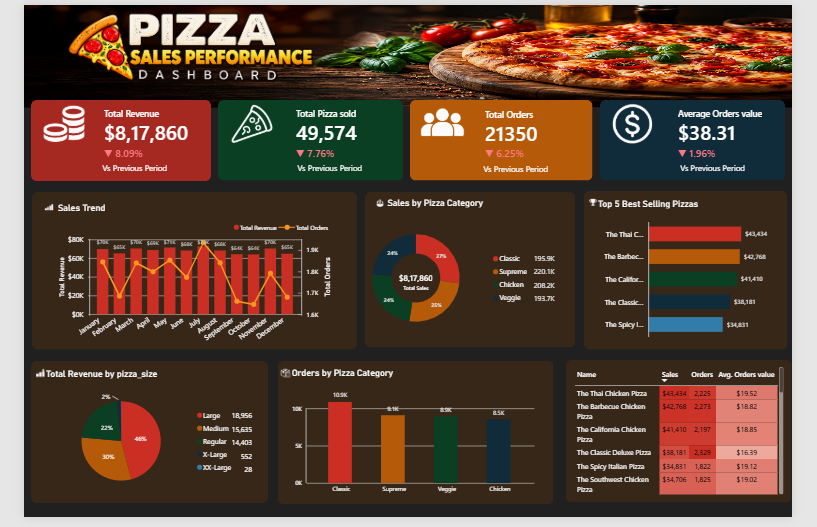

This screenshot's page, from the dashboard's own definition file:
{"tool":"powerbi","page":{"name":"Sales Performance","canvas":[1536,1024],"ordinal":0},"visuals":[{"type":"image","box":[0,0,1536,205],"z":0},{"type":"shape","box":[680.9,373.3,420.7,311.1],"z":0,"group":"g3"},{"type":"group","id":"g1","title":"Group 2","box":[15,374.4,650,315],"z":0,"group":"g4"},{"type":"shape","box":[15,374.4,650,315.5],"z":0,"group":"g1"},{"type":"shape","box":[1084.7,710,451,285.1],"z":0,"group":"g7"},{"type":"shape","box":[14.3,711.4,474.2,284],"z":0,"group":"g8"},{"type":"shape","box":[508.9,711.4,551.1,286.4],"z":0,"group":"g6"},{"type":"image","box":[0,0,670,170],"z":1000},{"type":"donutChart","title":"Sales by Pizza Category","fields":{"Category":["pizza_sales1.pizza_category"],"Y":["pizza_sales1.Total Revenue"]},"box":[613.3,370,417.4,316.7],"z":1000,"group":"g3"},{"type":"shape","box":[1120,371.7,406.7,317.5],"z":1000,"group":"g5"},{"type":"lineStackedColumnComboChart","title":"Sales Trend","fields":{"Category":["dimdate.date.Variation.Date Hierarchy.Month"],"Y":["pizza_sales1.Total Revenue"],"Y2":["pizza_sales1.Total Orders"]},"box":[47.5,374.4,585,315.5],"z":1000,"group":"g1"},{"type":"shape","box":[530,467.7,46.7,153.3],"z":1000,"group":"g4"},{"type":"columnChart","title":" Orders by Pizza Category","fields":{"Category":["pizza_sales1.pizza_category"],"Y":["pizza_sales1.Total Orders"]},"box":[520.1,710,516.8,287.1],"z":1000,"group":"g6"},{"type":"tableEx","fields":{"Values":["pizza_sales1.pizza_name","pizza_sales1.Total Revenue","pizza_sales1.Total Orders","pizza_sales1.Average Orders value"]},"box":[1084.3,710.6,451,285.1],"z":1000,"group":"g7"},{"type":"pieChart","fields":{"Category":["pizza_sales1.pizza_size"],"Y":["pizza_sales1.Total Revenue"]},"box":[24.7,711.6,415.6,284.9],"z":1000,"group":"g8"},{"type":"group","id":"g2","title":"Group 1","box":[13.3,189,1516,162],"z":2000},{"type":"shape","box":[13.3,189.7,360,162],"z":2000,"group":"g2"},{"type":"image","box":[38.6,390.8,20,27.3],"z":2000,"group":"g1"},{"type":"shape","box":[106.7,467.7,46.7,153.3],"z":2000,"group":"g4"},{"type":"textbox","box":[748.1,554.3,71.7,27.8],"z":2000,"group":"g3"},{"type":"shape","box":[177.1,755.8,13.7,59.5],"z":2000,"group":"g8"},{"type":"shape","box":[530.6,806.7,68.3,150],"z":2000,"group":"g6"},{"type":"cardVisual","fields":{"Data":["pizza_sales1.Total Revenue"]},"box":[143.6,190,230,160],"z":3000,"group":"g2"},{"type":"group","id":"g3","title":"Group 3","box":[613.3,370,488.3,316.7],"z":3000},{"type":"barChart","title":"Top 5 Best Selling Pizzas","fields":{"Category":["pizza_sales1.pizza_name"],"Y":["pizza_sales1.Total Revenue"]},"box":[1128.8,371.7,397.5,317.5],"z":3000,"group":"g5"},{"type":"tableEx","fields":{"Values":["pizza_sales1.pizza_category","pizza_sales1.Total Revenue"]},"box":[849.7,442.9,251.2,175.1],"z":3000,"group":"g3"},{"type":"image","box":[21.8,721.5,21.4,26.9],"z":3000,"group":"g8"},{"type":"image","box":[513.4,722.5,21.1,26.7],"z":3000,"group":"g6"},{"type":"cardVisual","fields":{"Data":["pizza_sales1.Latest MoM %"]},"box":[143.6,275.7,171.4,37.1],"z":4000,"group":"g2"},{"type":"group","id":"g4","title":"Group 4","box":[15,374.4,650,315],"z":4000},{"type":"image","box":[700.9,382.8,20,26.9],"z":4000,"group":"g3"},{"type":"tableEx","fields":{"Values":["pizza_sales1.pizza_size","pizza_sales1.Total Pizza sold"]},"box":[267.5,755.5,299.9,241.1],"z":4000,"group":"g8"},{"type":"textbox","box":[66.4,312.8,307.1,37.1],"z":5000,"group":"g2"},{"type":"group","id":"g5","title":"Group 5","box":[1120,371.7,406.7,318.3],"z":5000},{"type":"shape","box":[1216,433.4,66.7,230.3],"z":5000,"group":"g5"},{"type":"image","box":[13.6,190,130,85.7],"z":6000,"group":"g2"},{"type":"image","box":[1128.8,380.5,20,27.7],"z":6000,"group":"g5"},{"type":"group","id":"g6","title":"Group 1","box":[508.9,710,551.1,287.8],"z":6000},{"type":"shape","box":[386.3,189.7,370,161],"z":7000,"group":"g2"},{"type":"group","id":"g7","title":"Group 1","box":[1084.3,710,451.4,285.7],"z":7000},{"type":"cardVisual","fields":{"Data":["pizza_sales1.Total Pizza sold"]},"box":[527.3,189.7,230,160],"z":8000,"group":"g2"},{"type":"group","id":"g8","title":"Group 1","box":[14.3,711.4,552.9,285.7],"z":8000},{"type":"cardVisual","fields":{"Data":["pizza_sales1.total mom change"]},"box":[527.3,275.7,171.4,37.1],"z":9000,"group":"g2"},{"type":"textbox","box":[457.6,312.3,307.1,37.1],"z":10000,"group":"g2"},{"type":"image","box":[386,190.7,130,85.7],"z":11000,"group":"g2"},{"type":"shape","box":[771,189,365,161],"z":12000,"group":"g2"},{"type":"cardVisual","fields":{"Data":["pizza_sales1.Total Orders"]},"box":[906,190.7,230,160],"z":13000,"group":"g2"},{"type":"cardVisual","fields":{"Data":["pizza_sales1.Total Order mom change"]},"box":[906,275.7,171.4,37.1],"z":14000,"group":"g2"},{"type":"textbox","box":[829.3,314,307.1,37.1],"z":15000,"group":"g2"},{"type":"image","box":[771,190.7,130,85.7],"z":16000,"group":"g2"},{"type":"shape","box":[1151.3,189,370,161],"z":17000,"group":"g2"},{"type":"cardVisual","fields":{"Data":["pizza_sales1.Average Orders value"]},"box":[1291,189,230,160],"z":18000,"group":"g2"},{"type":"cardVisual","fields":{"Data":["pizza_sales1.avg order value mom change"]},"box":[1291,275.7,171.4,37.1],"z":19000,"group":"g2"},{"type":"textbox","box":[1222.6,312.3,306.7,36.7],"z":20000,"group":"g2"},{"type":"image","box":[1151,190.7,130,85.7],"z":21000,"group":"g2"}]}

Visuals, with their boxes on the page's 1536x1024 design canvas (x1, y1, x2, y2). These are canvas units, not pixel positions in the 817x527 screenshot, which may show the page scaled, cropped or inside an application window:
image: bbox(0, 0, 1536, 205)
shape: bbox(681, 373, 1102, 684)
"Group 2" group: bbox(15, 374, 665, 689)
shape: bbox(15, 374, 665, 690)
shape: bbox(1085, 710, 1536, 995)
shape: bbox(14, 711, 488, 995)
shape: bbox(509, 711, 1060, 998)
image: bbox(0, 0, 670, 170)
"Sales by Pizza Category" donutChart: bbox(613, 370, 1031, 687)
shape: bbox(1120, 372, 1527, 689)
"Sales Trend" lineStackedColumnComboChart: bbox(48, 374, 632, 690)
shape: bbox(530, 468, 577, 621)
" Orders by Pizza Category" columnChart: bbox(520, 710, 1037, 997)
tableEx - pizza_sales1.pizza_name x pizza_sales1.Total Revenue: bbox(1084, 711, 1535, 996)
pieChart - pizza_sales1.pizza_size x pizza_sales1.Total Revenue: bbox(25, 712, 440, 996)
"Group 1" group: bbox(13, 189, 1529, 351)
shape: bbox(13, 190, 373, 352)
image: bbox(39, 391, 59, 418)
shape: bbox(107, 468, 153, 621)
textbox: bbox(748, 554, 820, 582)
shape: bbox(177, 756, 191, 815)
shape: bbox(531, 807, 599, 957)
cardVisual - pizza_sales1.Total Revenue: bbox(144, 190, 374, 350)
"Group 3" group: bbox(613, 370, 1102, 687)
"Top 5 Best Selling Pizzas" barChart: bbox(1129, 372, 1526, 689)
tableEx - pizza_sales1.pizza_category x pizza_sales1.Total Revenue: bbox(850, 443, 1101, 618)
image: bbox(22, 722, 43, 748)
image: bbox(513, 722, 534, 749)
cardVisual - pizza_sales1.Latest MoM %: bbox(144, 276, 315, 313)
"Group 4" group: bbox(15, 374, 665, 689)
image: bbox(701, 383, 721, 410)
tableEx - pizza_sales1.pizza_size x pizza_sales1.Total Pizza sold: bbox(268, 756, 567, 997)
textbox: bbox(66, 313, 374, 350)
"Group 5" group: bbox(1120, 372, 1527, 690)
shape: bbox(1216, 433, 1283, 664)
image: bbox(14, 190, 144, 276)
image: bbox(1129, 380, 1149, 408)
"Group 1" group: bbox(509, 710, 1060, 998)
shape: bbox(386, 190, 756, 351)
"Group 1" group: bbox(1084, 710, 1536, 996)
cardVisual - pizza_sales1.Total Pizza sold: bbox(527, 190, 757, 350)
"Group 1" group: bbox(14, 711, 567, 997)
cardVisual - pizza_sales1.total mom change: bbox(527, 276, 699, 313)
textbox: bbox(458, 312, 765, 349)
image: bbox(386, 191, 516, 276)
shape: bbox(771, 189, 1136, 350)
cardVisual - pizza_sales1.Total Orders: bbox(906, 191, 1136, 351)
cardVisual - pizza_sales1.Total Order mom change: bbox(906, 276, 1077, 313)
textbox: bbox(829, 314, 1136, 351)
image: bbox(771, 191, 901, 276)
shape: bbox(1151, 189, 1521, 350)
cardVisual - pizza_sales1.Average Orders value: bbox(1291, 189, 1521, 349)
cardVisual - pizza_sales1.avg order value mom change: bbox(1291, 276, 1462, 313)
textbox: bbox(1223, 312, 1529, 349)
image: bbox(1151, 191, 1281, 276)
